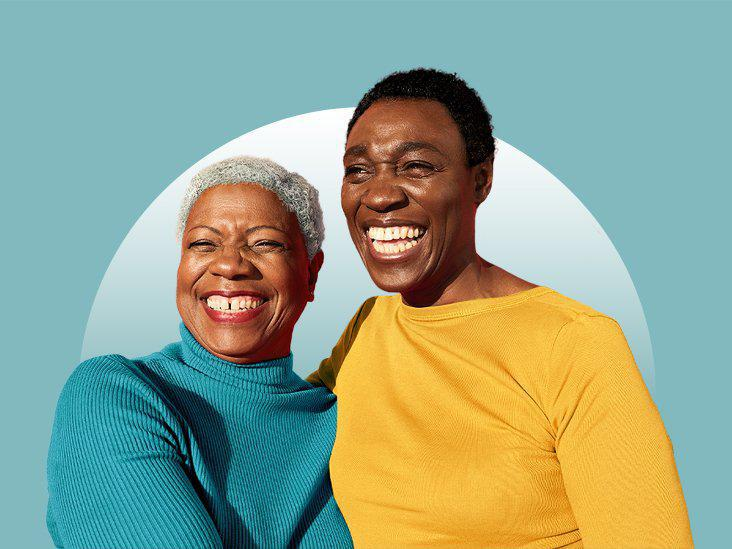Sober: (349, 117, 468, 282), (179, 198, 294, 342)
